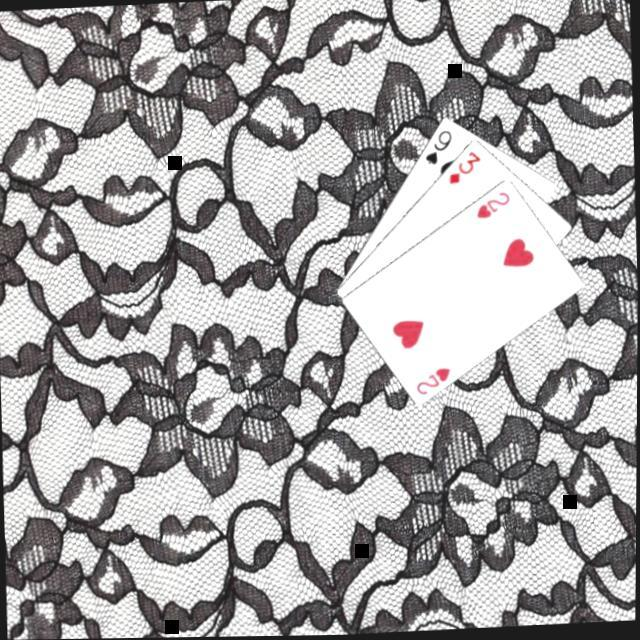2H: (413, 364, 455, 397), (473, 189, 514, 222)
3D: (445, 147, 484, 187)
9S: (422, 126, 455, 167)
